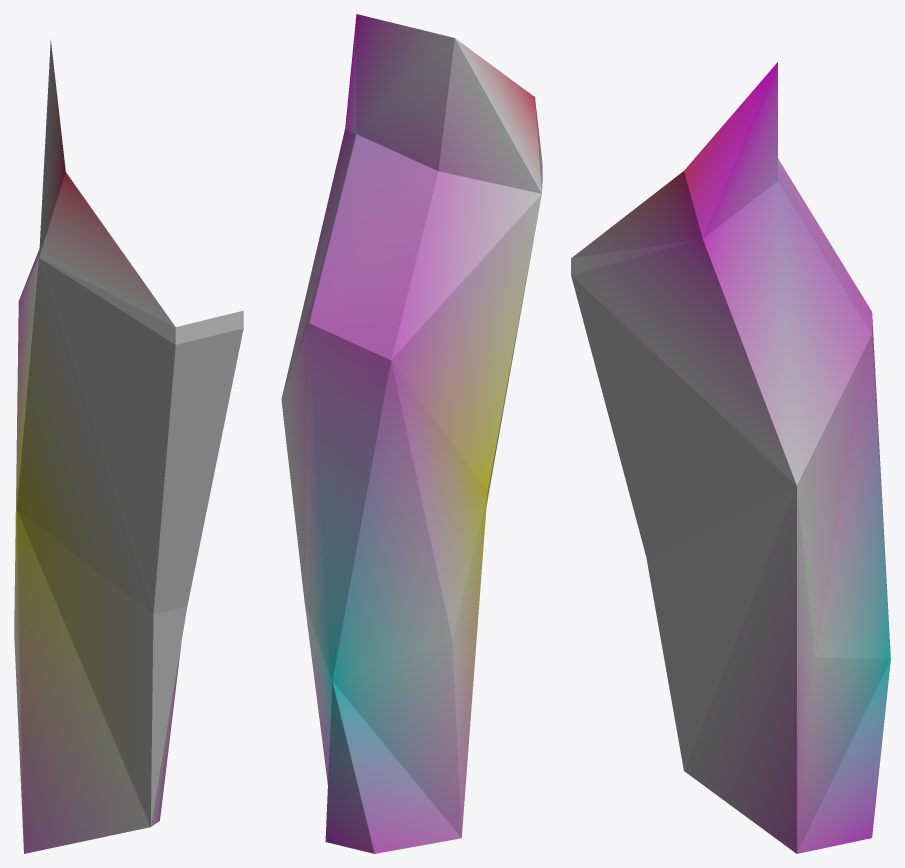
3 views of the same model, side by side, from view 1: azimuth 30°, elevation 25°; view 2: azimuth 150°, elevation 25°; view 3: azimuth 270°, elevation 25° (orthographic). The views are drawn at different scales.
Visible parts, largest first — view 1: model_11B4; view 2: model_11B4; view 3: model_11B4.
Part boxes in pixels (x1,y1,x2,y2): model_11B4: (14, 39, 243, 853); model_11B4: (281, 14, 542, 853); model_11B4: (571, 62, 890, 853).
Size of the model in its own units: 13 by 46 by 17.
